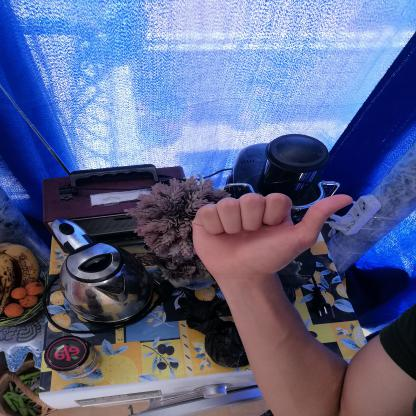DAD: (182, 182, 367, 288)
